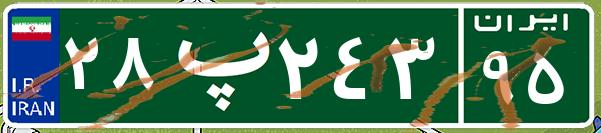2: (273, 28, 330, 110), (57, 26, 110, 107)
3: (385, 28, 445, 110)
4: (330, 28, 385, 110)
5: (525, 38, 570, 115)
8: (110, 28, 158, 105)
9: (475, 38, 525, 113)
پ: (158, 15, 273, 115)
